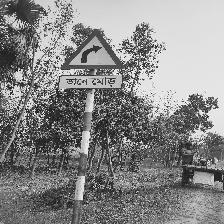Right-turn: (60, 30, 125, 91)
